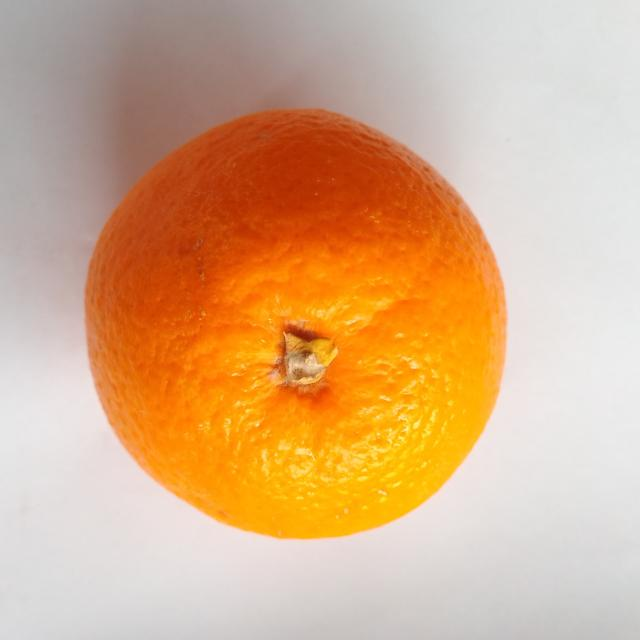orange: (86, 110, 506, 537)
